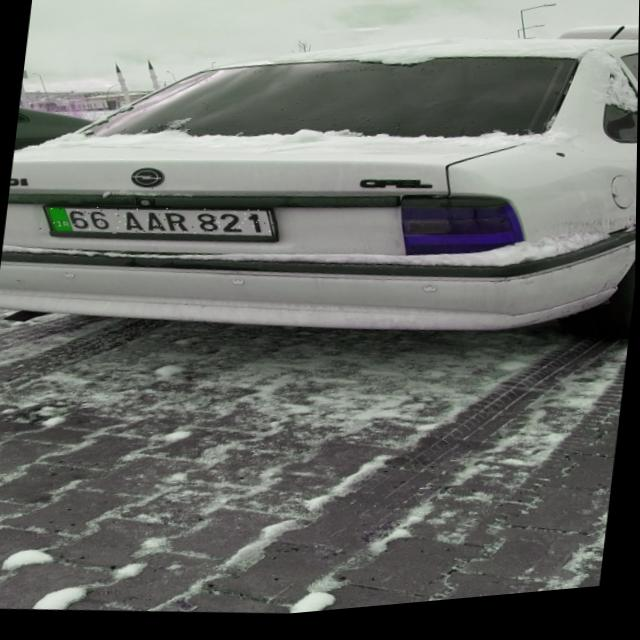license_plate: (39, 190, 279, 258)
